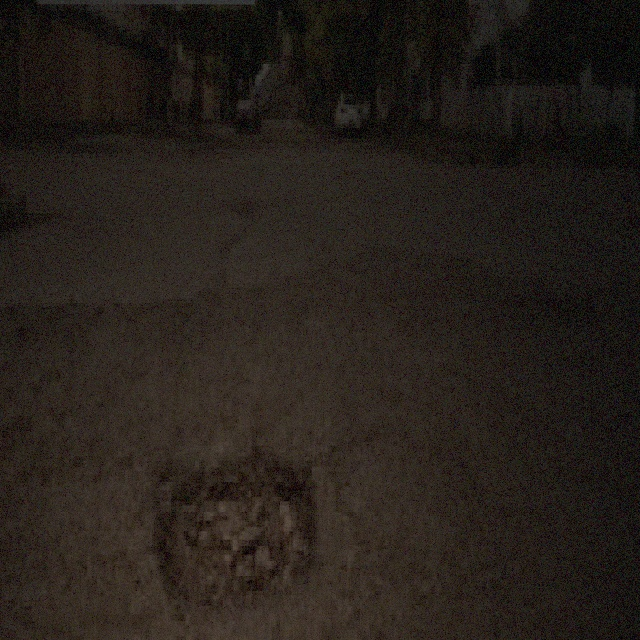pothole: (150, 444, 317, 614)
